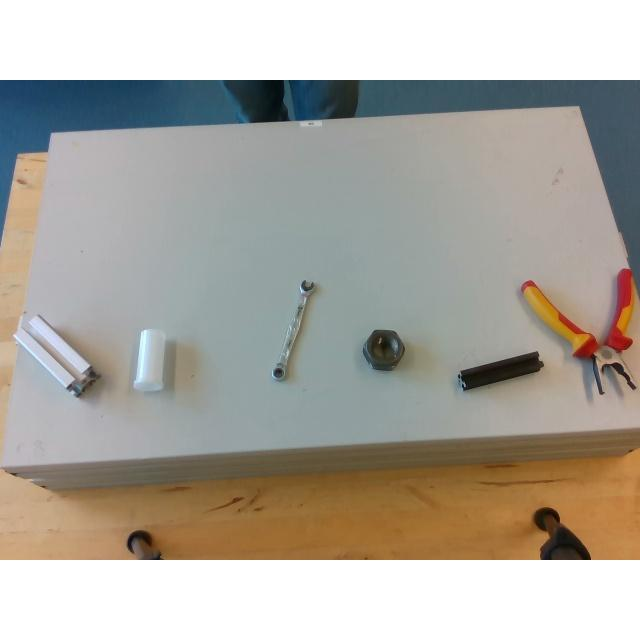F20_20_B: (457, 351, 543, 389)
M30: (364, 329, 404, 369)
S40_40_G: (14, 315, 98, 395)
Spacer: (132, 330, 164, 390)
Wrench: (271, 278, 313, 378)
